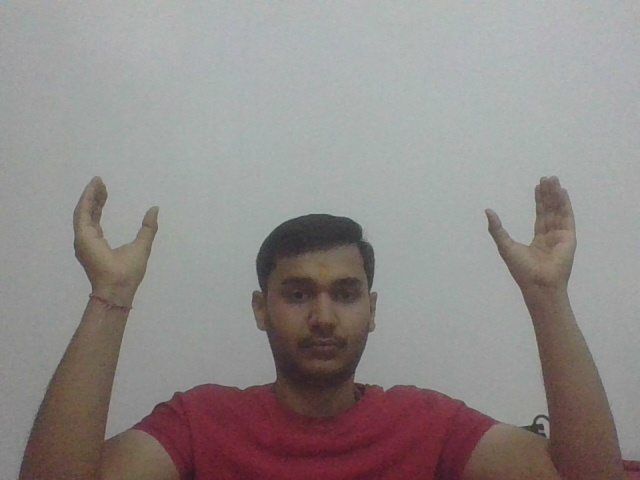U: (484, 171, 579, 294), (68, 170, 161, 292)
